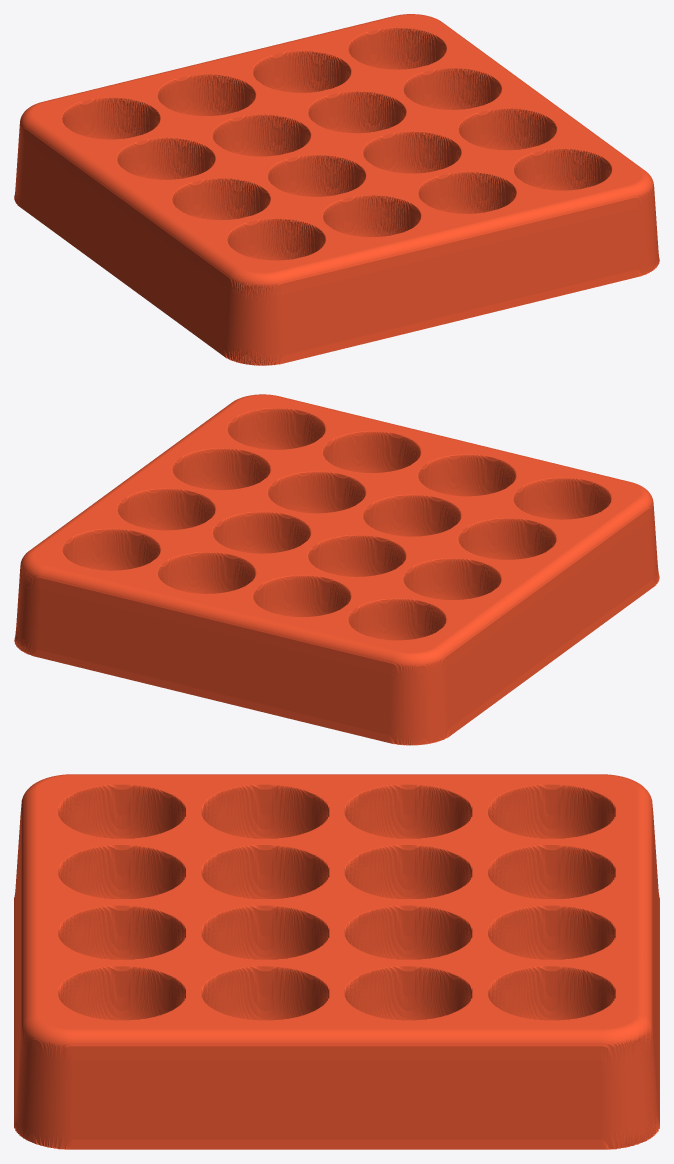
File: mold.glb
3 views of the same model, one above another, from view 1: azimuth 30°, elevation 25°; view 2: azimuth 150°, elevation 25°; view 3: azimuth 270°, elevation 25° (orthographic). The views are drawn at different scales.
Parts seen in each view (by area): view 1: geometry_0; view 2: geometry_0; view 3: geometry_0.
Part boxes in pixels (<box>): geometry_0: <box>14,14,659,365</box>; geometry_0: <box>14,394,659,745</box>; geometry_0: <box>14,774,659,1149</box>.
Size of the model in its own units: 0.0992 by 0.0188 by 0.0992.
